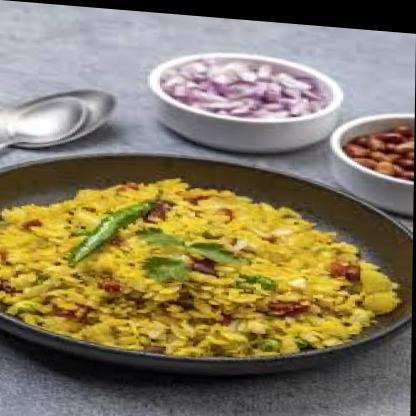poha: (0, 165, 404, 367)
